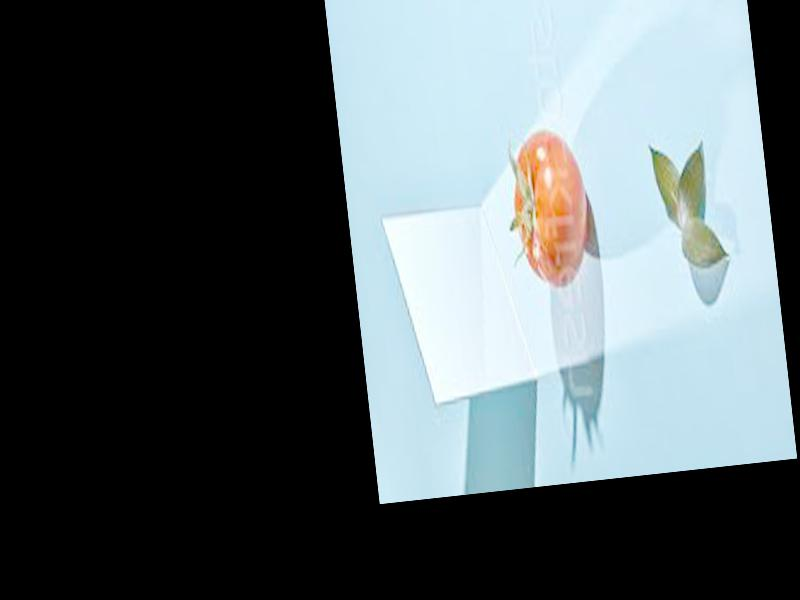Tomato: (505, 122, 595, 291)
